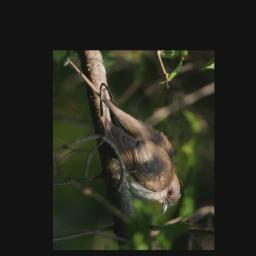Cuckoo: (61, 58, 186, 217)
